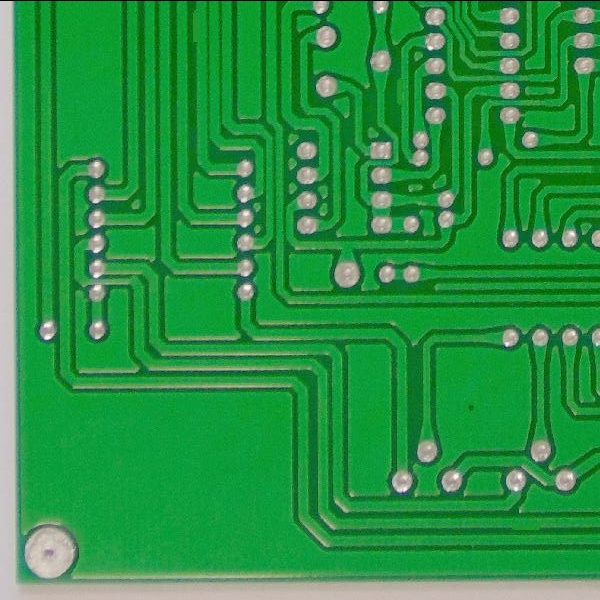spur: (186, 4, 204, 47), (393, 71, 408, 111), (509, 517, 543, 534)
